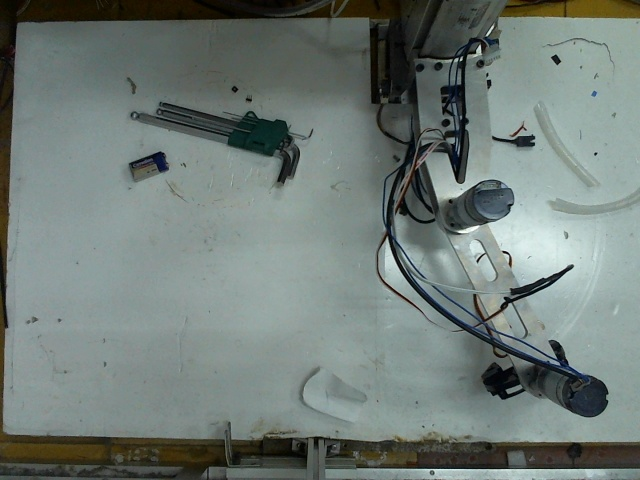battery: (124, 150, 171, 177)
